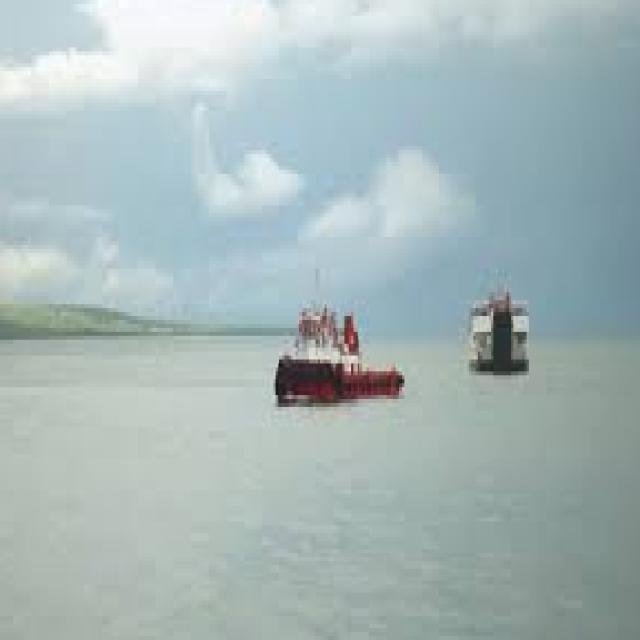cargoship: (271, 277, 414, 429), (457, 275, 548, 380)
